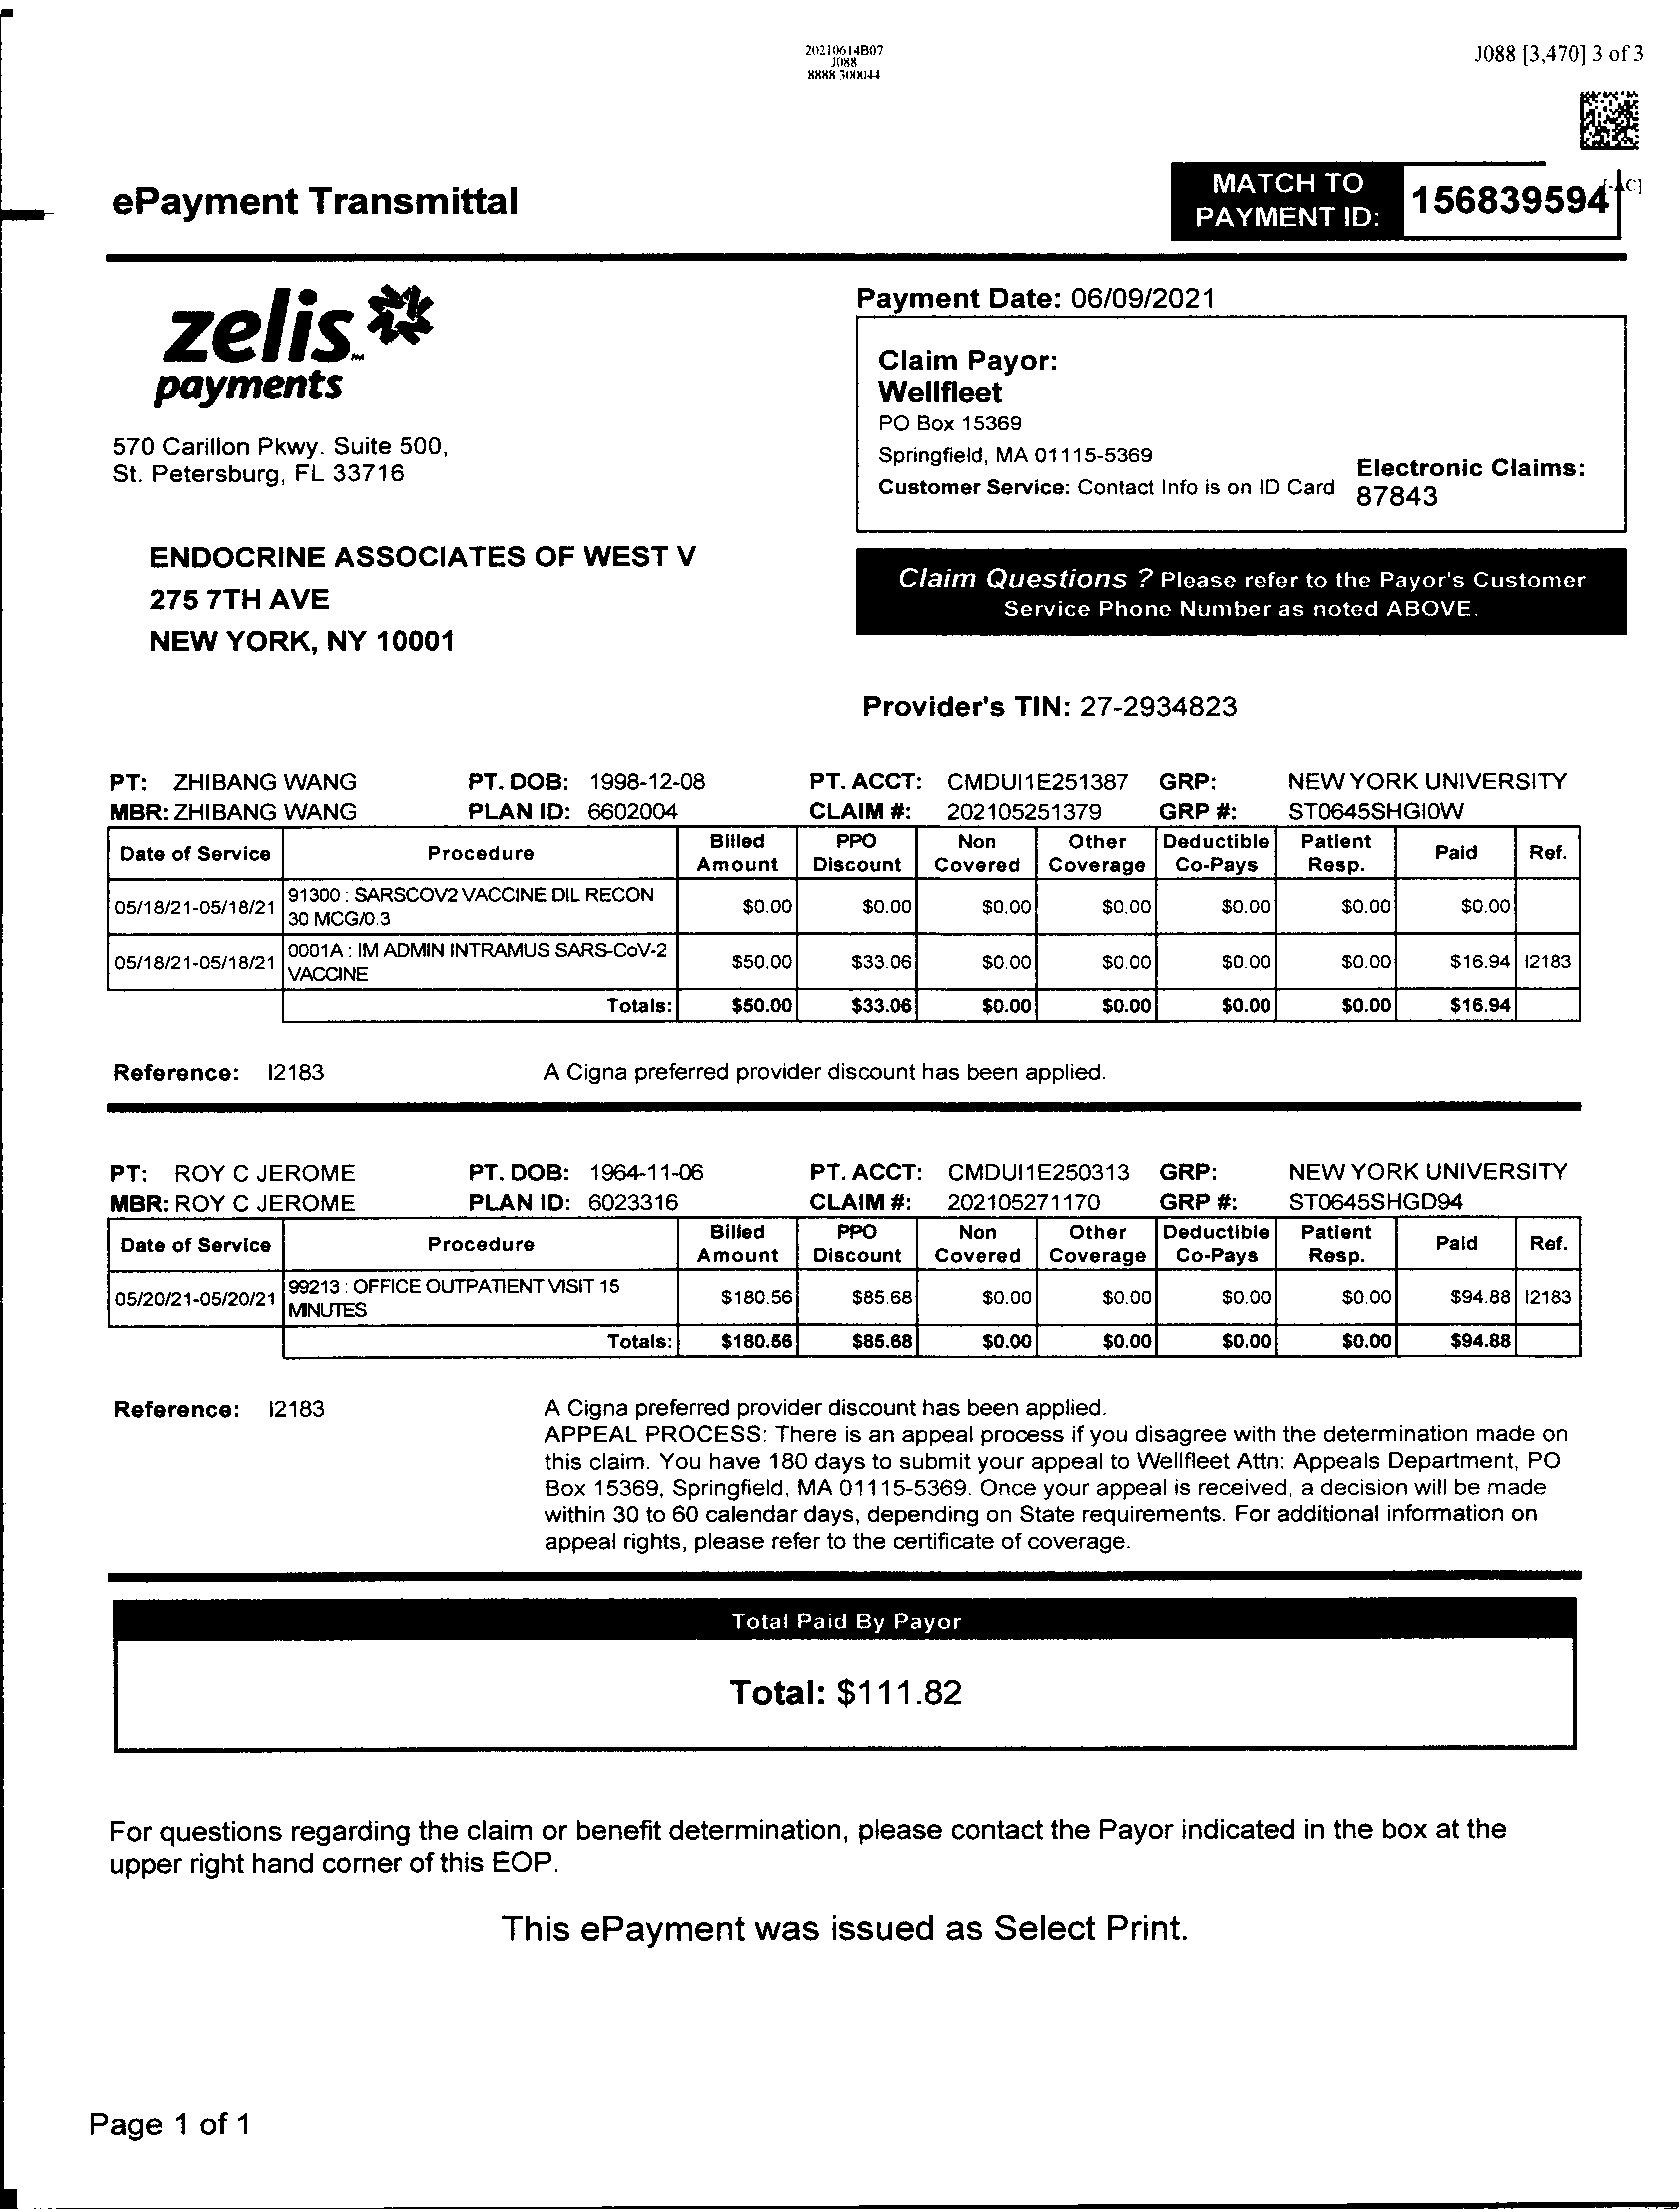table: (90, 755, 1598, 1045), (92, 1151, 1593, 1373), (847, 310, 1635, 539)
